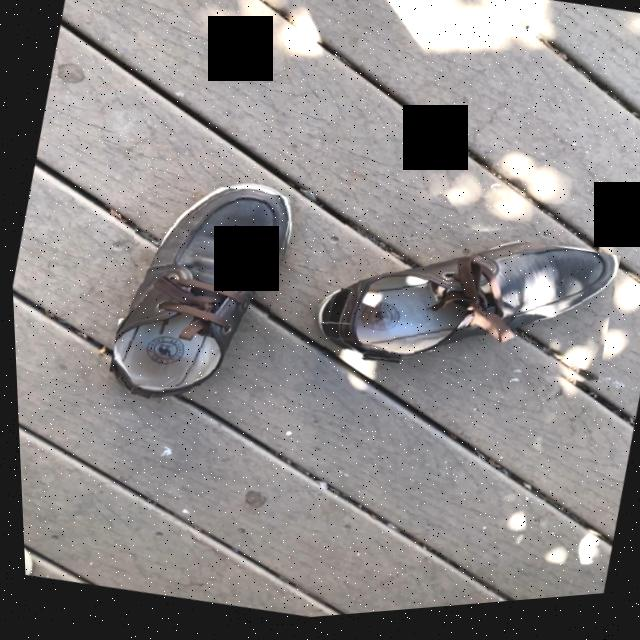shoe: (105, 193, 289, 402), (313, 253, 615, 367)
